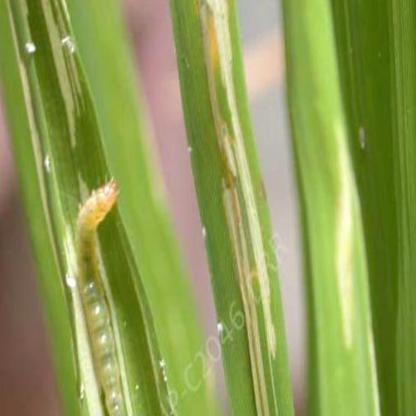leaf-folder: (60, 171, 144, 416)
